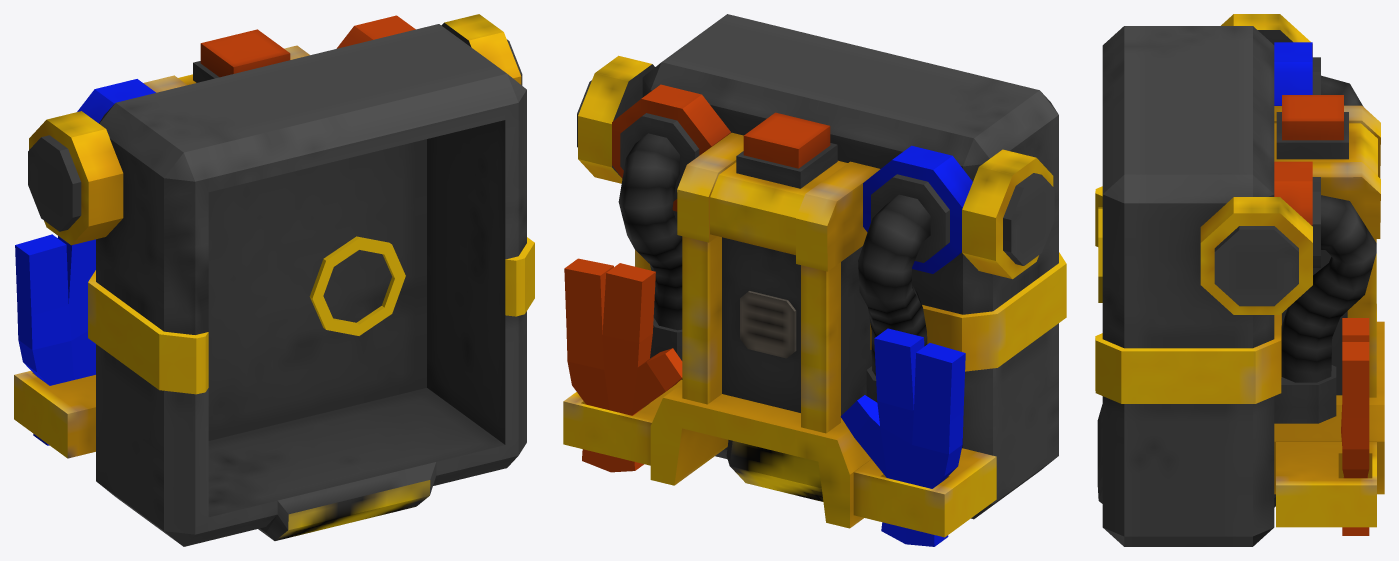
The model's file is Bag_Huggy.fbx.
3 views of the same model, side by side, from view 1: azimuth 30°, elevation 25°; view 2: azimuth 150°, elevation 25°; view 3: azimuth 270°, elevation 25° (orthographic). The views are drawn at different scales.
Parts seen in each view (by area): view 1: Bag_Huggy, Slot; view 2: Bag_Huggy; view 3: Bag_Huggy, Slot.
Boxes of the visible parts, left/top/right/bottom form: Bag_Huggy: left=14, top=14, right=534, bottom=546; Slot: left=309, top=236, right=405, bottom=335; Bag_Huggy: left=563, top=14, right=1066, bottom=546; Bag_Huggy: left=1095, top=14, right=1384, bottom=546; Slot: left=1098, top=207, right=1102, bottom=302.
Size of the model in its own units: 56.36 by 49.19 by 33.3.
Materials: 1 (1 with a texture image).
